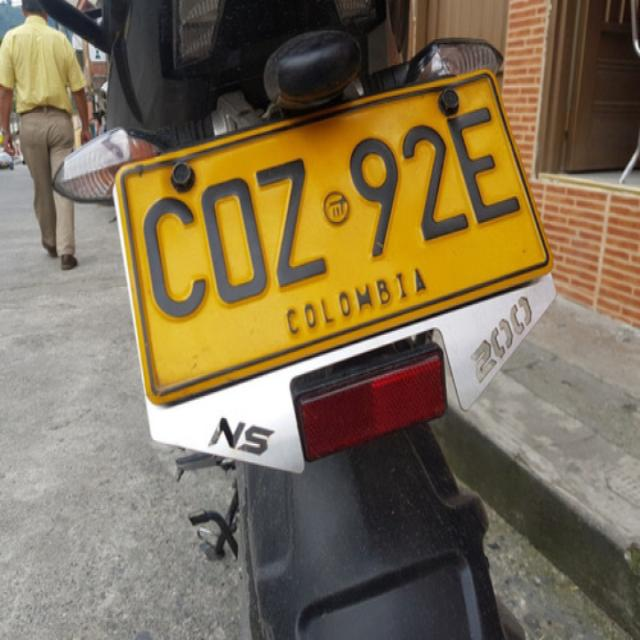placa_moto: (120, 67, 556, 401)
